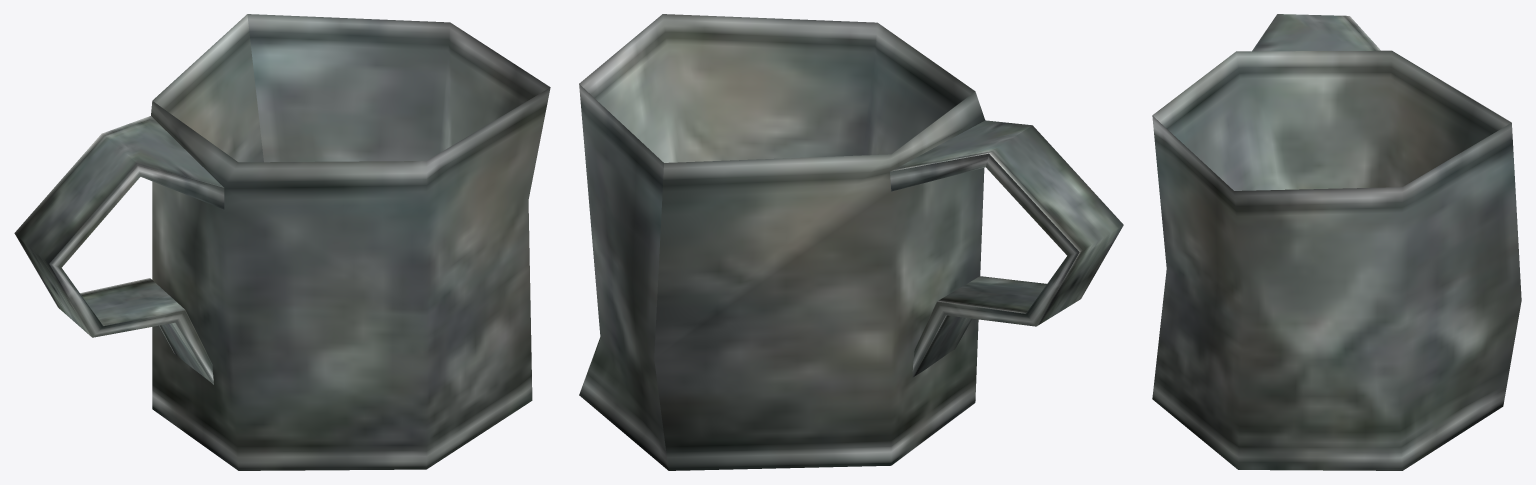
Rendered from cup_tin-old.fbx.
The picture shows the model from 3 angles, left to right: view 1: azimuth 30°, elevation 25°; view 2: azimuth 150°, elevation 25°; view 3: azimuth 270°, elevation 25°; orthographic projection. The views are drawn at different scales.
Visible parts, largest first — view 1: lod_high; view 2: lod_high; view 3: lod_high.
Part boxes in pixels (x1,y1,x2,y2): lod_high: (14,14,550,470); lod_high: (579,14,1123,470); lod_high: (1152,14,1521,470).
Size of the model in its own units: 32.76 by 20.46 by 23.77.
Materials: 1 (1 with a texture image).
